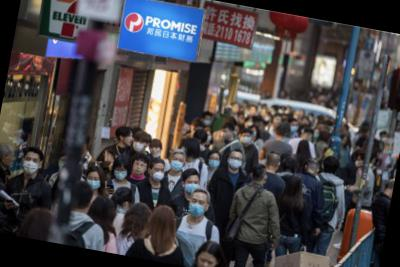mask_weared_incorrect: (148, 146, 162, 158)
with_mask: (21, 155, 41, 177), (188, 197, 208, 219), (183, 177, 202, 197), (85, 175, 104, 193), (169, 154, 186, 174), (227, 154, 245, 172), (150, 165, 167, 183), (112, 166, 130, 182), (131, 138, 147, 153), (208, 155, 222, 169), (221, 129, 234, 141), (241, 134, 253, 146), (202, 115, 213, 128), (289, 122, 300, 134), (354, 158, 366, 169), (59, 157, 68, 170), (313, 130, 321, 139)
without_mask: (197, 250, 219, 267), (134, 160, 149, 176), (5, 151, 16, 168), (123, 133, 135, 146)
